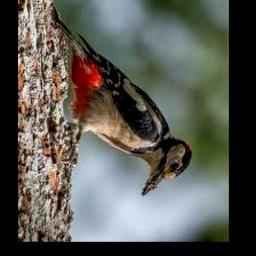Woodpecker: (51, 6, 192, 196)
